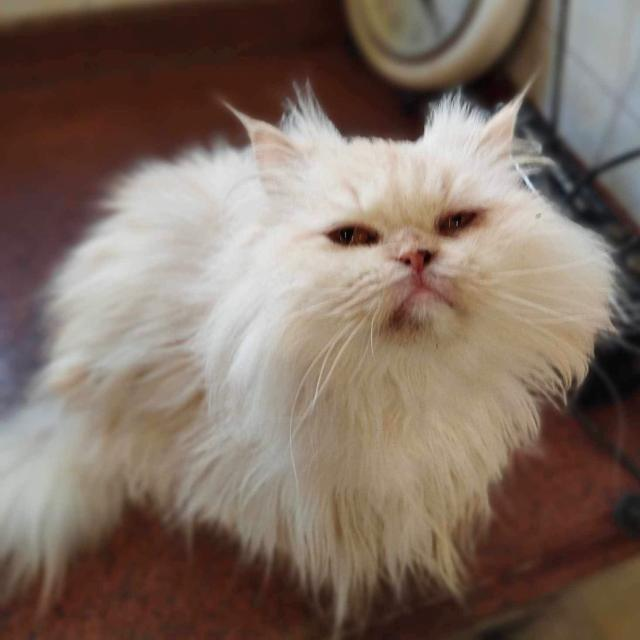persian_cat: (206, 68, 590, 412)
